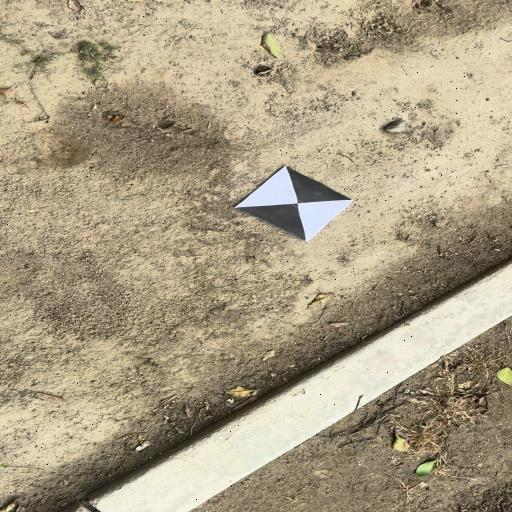target: (239, 167, 353, 240)
